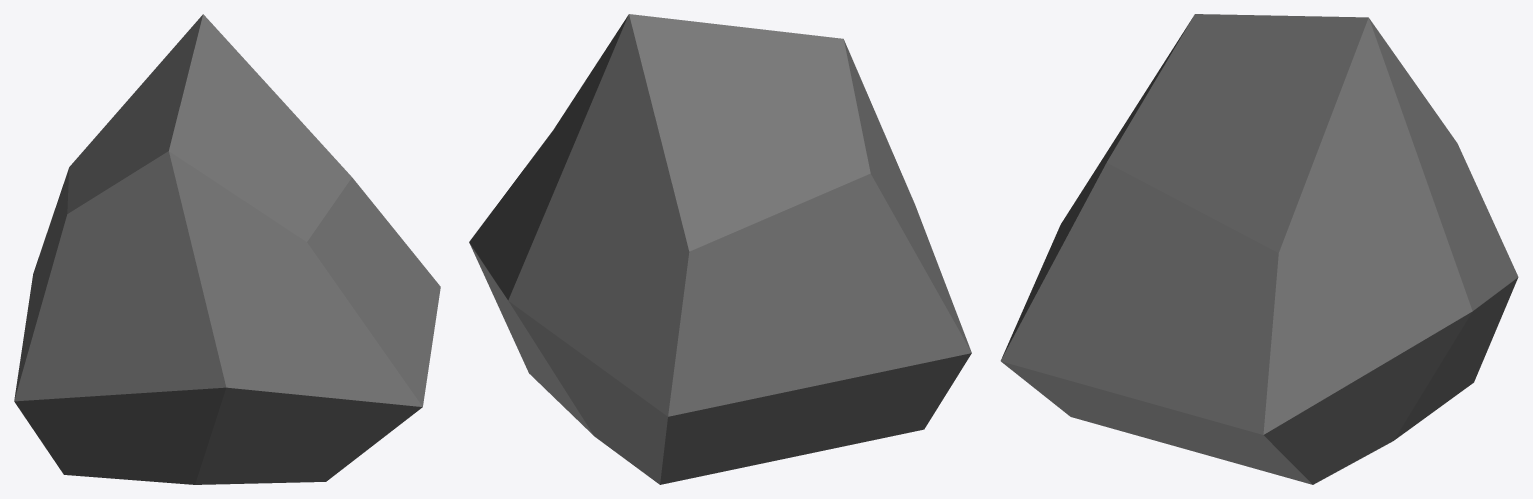
The model's file is rock.glb.
3 views of the same model, side by side, from view 1: azimuth 30°, elevation 25°; view 2: azimuth 150°, elevation 25°; view 3: azimuth 270°, elevation 25° (orthographic). The views are drawn at different scales.
Parts seen in each view (by area): view 1: Cube.191; view 2: Cube.191; view 3: Cube.191.
Boxes of the visible parts, x1=… form: Cube.191: x1=14, y1=14, x2=440, y2=484; Cube.191: x1=469, y1=14, x2=971, y2=484; Cube.191: x1=1000, y1=14, x2=1518, y2=484.
Bounding box in the file's own units: 2.2 × 1.79 × 2.03.
1 material, 1 textured.
